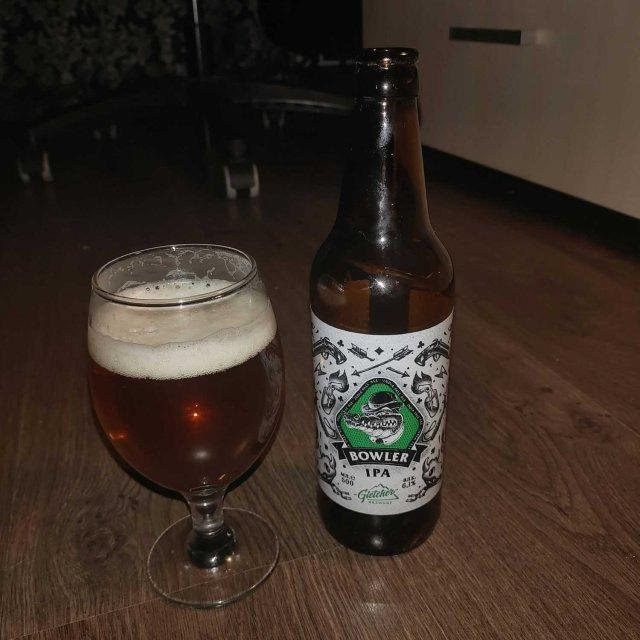Glass: (308, 44, 455, 558), (85, 245, 285, 608)
